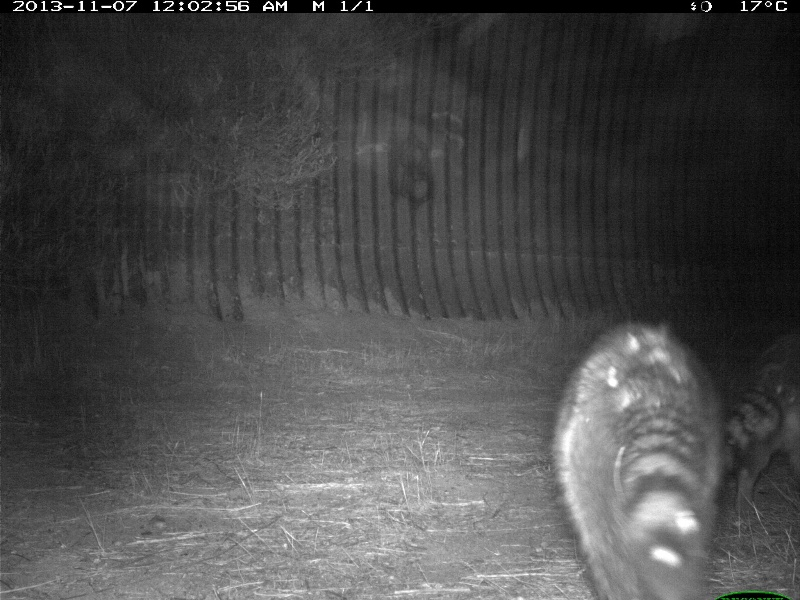raccoon: (550, 320, 726, 593)
